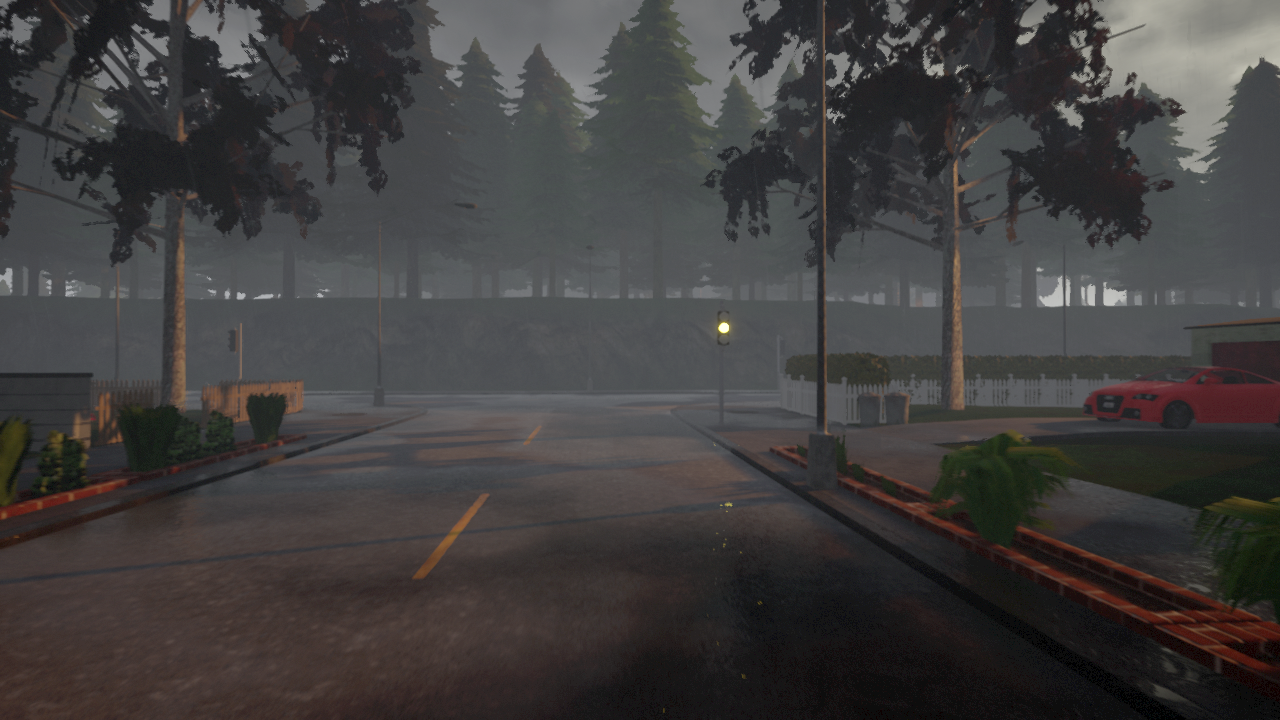yellow: (717, 309, 733, 346)
